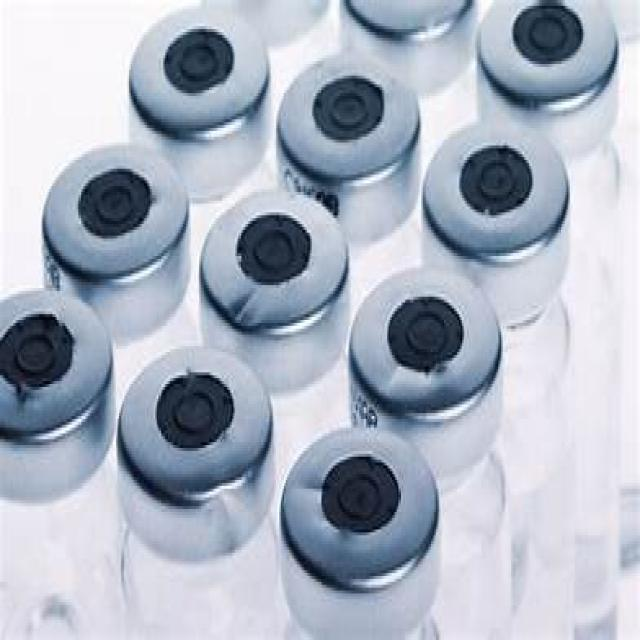vial: (293, 404, 445, 611), (436, 115, 571, 270), (365, 264, 496, 411), (274, 55, 420, 178), (194, 198, 339, 318), (0, 285, 109, 441), (43, 147, 178, 265), (123, 354, 262, 467), (484, 0, 619, 111), (136, 20, 258, 128), (352, 0, 470, 60)
